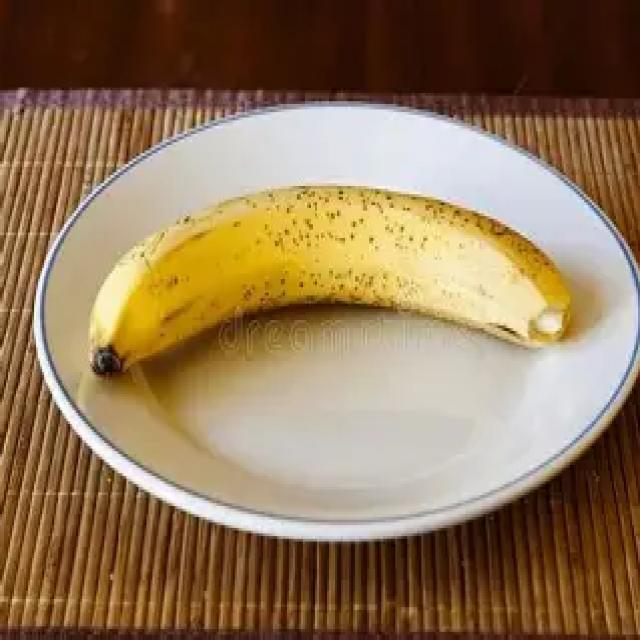BANANA: (89, 160, 587, 424)
